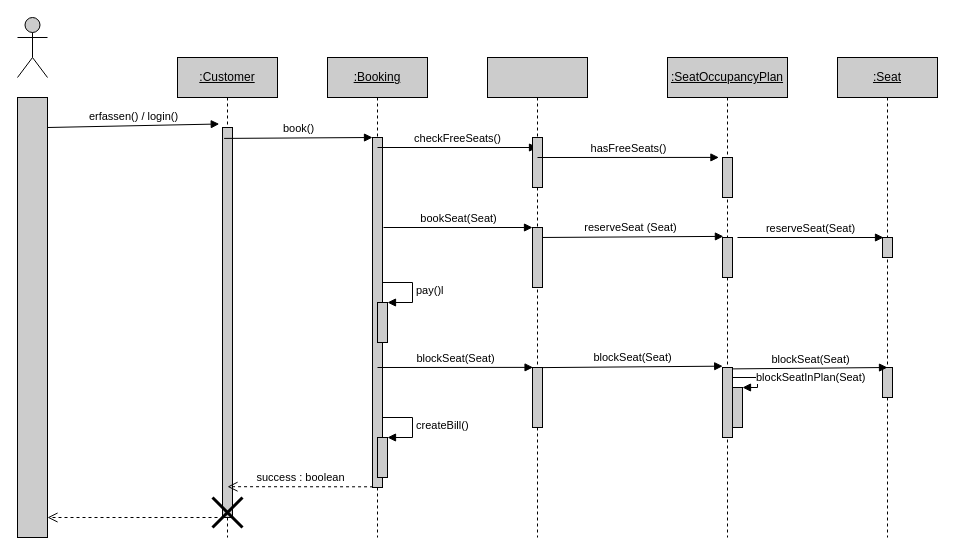
This 955x555 diagram has some shape labels left out. The shapes that lost their labels are listed below. From the top down, each one's centre as x and y in pixels, then its label:
[32,47]: Actor
[537,297]: :Show
